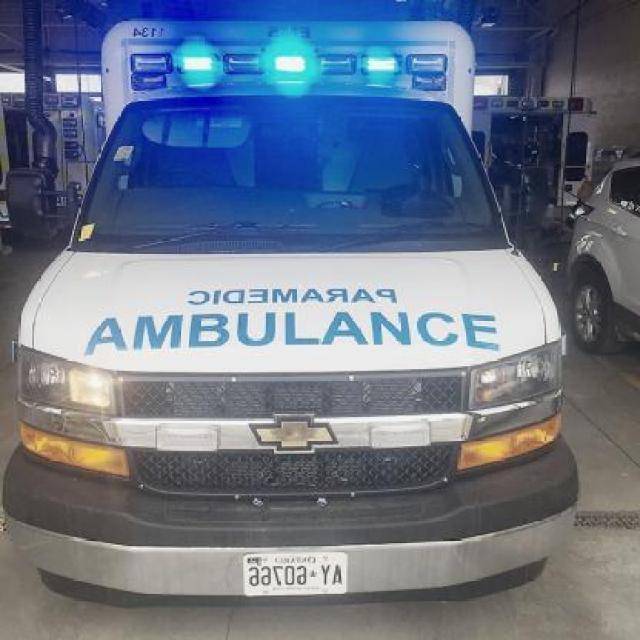emergency: (2, 14, 582, 606)
